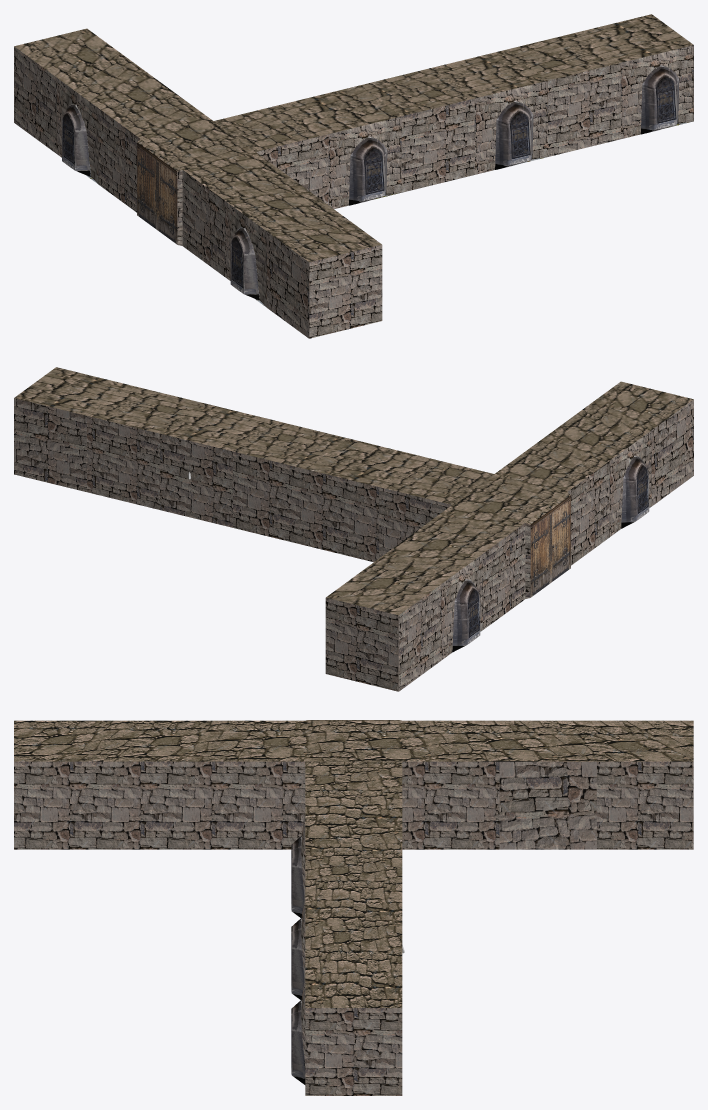
File: corridor bake4.fbx
The picture shows the model from 3 angles, top to bottom: view 1: azimuth 30°, elevation 25°; view 2: azimuth 150°, elevation 25°; view 3: azimuth 270°, elevation 25°; orthographic projection. The views are drawn at different scales.
Parts seen in each view (by area): view 1: Corridor; view 2: Corridor; view 3: Corridor.
Boxes of the visible parts, x1,y1,x2,y2 form: Corridor: (14, 14, 693, 338); Corridor: (14, 367, 693, 691); Corridor: (14, 720, 693, 1095).
Bounding box in the file's own units: 1429 × 201 × 1401.
